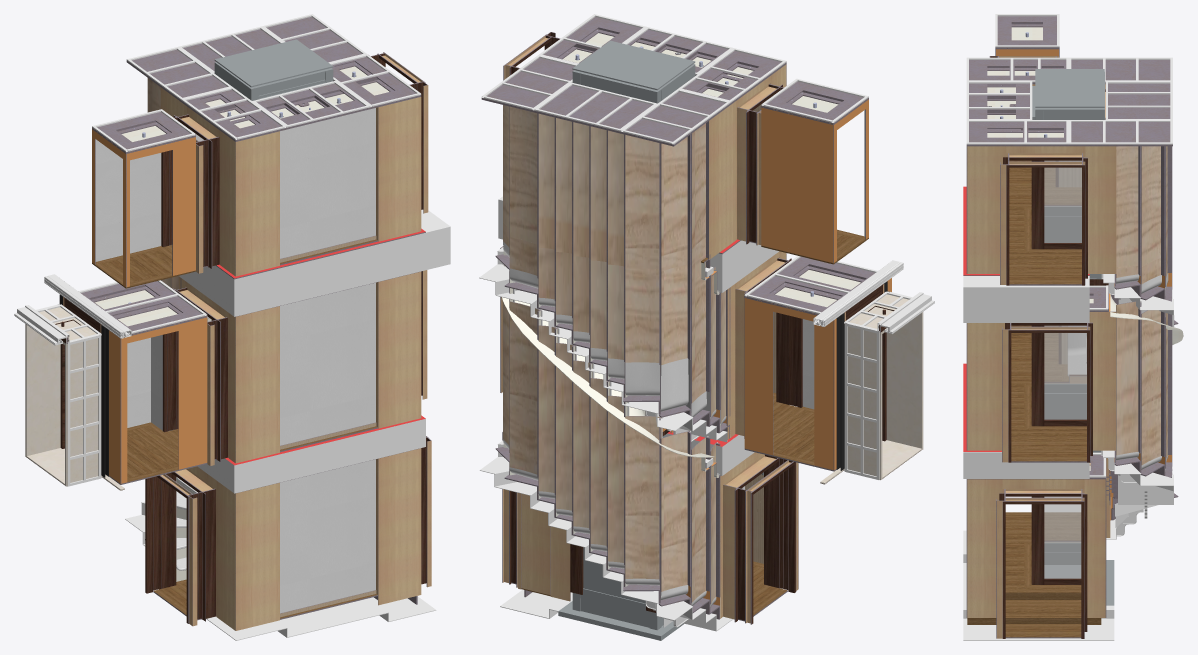
The picture shows the model from 3 angles, left to right: view 1: azimuth 30°, elevation 25°; view 2: azimuth 150°, elevation 25°; view 3: azimuth 270°, elevation 25°; orthographic projection. The views are drawn at different scales.
Visible parts, largest first — view 1: Yüzü Taşı1 2 - Parça, 68-152 MD-UD-BD MERDIVEN_RADIUSLU DP_1_ARKA_2-1 - Parça 2, 68-152 MD-UD-BD MERDIVEN_ARKA_3-1 - Parça 3, 68-152 MD-UD-BD MERDIVEN_RADIUSLU DP_2_ARKA_2-1 - Parça 2, 68-152 MD-UD-BD MERDIVEN_ARKA_1-1 - Parça 3, 68-152 MD-UD-BD MERDIVEN_ARKA_2-1 - Parça 3, 68-152 MD-UD-BD MERDIVEN_ARKA-1 - Parça 3, 68-152 MD-UD-BD MERDIVEN_ALT-1 - Parça, 68-152 MD-UD-BD MERDIVEN_RADIUSLU DP_3_ARKA_2-1 - Parça 2, 68-152 MD-UD-BD MERDIVEN_ARKA_4-1 - Parça 3, 68-152 MD-UD-BD MERDIVEN_ARKA_5-1 - Parça 3, 68-131 T S K KORİDOR K K _ARKA_7-1-solid1 - Parça (+54 smaller); view 2: BSMK_ALT_4_18_DVR_1-1 - Parça 3, 68-152 MD-UD-BD MERDIVEN_ARKA_49-1 - Parça 3, UD_USTPNEL_2_ALT_4_18_DVR_1-1 - Parça 3, BASAMAK_UST_DONUS_DVR_1-1 - Parça 3, 68-131 T S K KORİDOR K K _ARKA_7-2-solid1 - Parça, BSMK_ALT_3_17_DVR_1-1 - Parça 3, 68-152 MD-UD-BD MERDIVEN_SOL_7-1 - Parça 2, Yüzü Taşı310 - Parça 3, Alınmış18 - Parça, UD_USTPNEL_3_ALT_3_17_DVR_1-1 - Parça 3, UD_BSMK_ALT_4_18_DVR_1-1 - Parça 3, 68-131 T S K KORİDOR K K _UST_6_1KD ÖN1-1-solid1 - Parça 2 (+72 smaller); view 3: Alınmış29 - Parça, Alınmış28 - Parça, Yüzü Taşı1 2 - Parça, 68-152 MD-UD-BD MERDIVEN_SAG_1-1 - Parça 2, 68-152 MD-UD-BD MERDIVEN_SAG_2-1 - Parça 2, 68-152 MD-UD-BD MERDIVEN_SAG-1 - Parça 2, 68-152 MD-UD-BD MERDIVEN_SAG_7-1 - Parça 2, BSMK_UST_12_26_DVR_1-1 - Parça 3, 68-152 MD-UD-BD MERDIVEN_SAG_5-1 - Parça 2, BSMK_UST_11_25_DVR_1-1 - Parça 3, 68-171 BD MERDIVEN KOVASI LOBI PARKE_ALT_8-1 - Parça, Yüzü Taşı32 - Parça 3 (+74 smaller).
Part boxes in pixels (box(x1,y1,x2,y2)): Yüzü Taşı1 2 - Parça: box(169, 209, 450, 316); 68-152 MD-UD-BD MERDIVEN_RADIUSLU DP_1_ARKA_2-1 - Parça 2: box(280, 319, 375, 418); 68-152 MD-UD-BD MERDIVEN_ARKA_3-1 - Parça 3: box(235, 306, 279, 463); 68-152 MD-UD-BD MERDIVEN_RADIUSLU DP_2_ARKA_2-1 - Parça 2: box(280, 495, 375, 585); 68-152 MD-UD-BD MERDIVEN_ARKA_1-1 - Parça 3: box(378, 448, 421, 605); 68-152 MD-UD-BD MERDIVEN_ARKA_2-1 - Parça 3: box(378, 271, 421, 428); 68-152 MD-UD-BD MERDIVEN_ARKA-1 - Parça 3: box(235, 483, 279, 630); 68-152 MD-UD-BD MERDIVEN_ALT-1 - Parça: box(168, 419, 425, 493); 68-152 MD-UD-BD MERDIVEN_RADIUSLU DP_3_ARKA_2-1 - Parça 2: box(280, 142, 375, 228); 68-152 MD-UD-BD MERDIVEN_ARKA_4-1 - Parça 3: box(235, 131, 279, 276); 68-152 MD-UD-BD MERDIVEN_ARKA_5-1 - Parça 3: box(378, 97, 421, 241); 68-131 T S K KORİDOR K K _ARKA_7-1-solid1 - Parça: box(26, 325, 60, 455); BSMK_ALT_4_18_DVR_1-1 - Parça 3: box(625, 416, 661, 579); 68-152 MD-UD-BD MERDIVEN_ARKA_49-1 - Parça 3: box(761, 145, 832, 227); UD_USTPNEL_2_ALT_4_18_DVR_1-1 - Parça 3: box(625, 135, 659, 269); BASAMAK_UST_DONUS_DVR_1-1 - Parça 3: box(509, 301, 541, 474); 68-131 T S K KORİDOR K K _ARKA_7-2-solid1 - Parça: box(886, 313, 921, 448); BSMK_ALT_3_17_DVR_1-1 - Parça 3: box(661, 431, 689, 591); 68-152 MD-UD-BD MERDIVEN_SOL_7-1 - Parça 2: box(709, 101, 736, 259); Yüzü Taşı310 - Parça 3: box(509, 106, 537, 244); Alınmış18 - Parça: box(572, 40, 695, 90); UD_USTPNEL_3_ALT_3_17_DVR_1-1 - Parça 3: box(661, 137, 687, 271); UD_BSMK_ALT_4_18_DVR_1-1 - Parça 3: box(625, 268, 659, 362); 68-131 T S K KORİDOR K K _UST_6_1KD ÖN1-1-solid1 - Parça 2: box(847, 356, 876, 476); Alınmış29 - Parça: box(1044, 161, 1086, 578); Alınmış28 - Parça: box(1044, 161, 1086, 542); Yüzü Taşı1 2 - Parça: box(963, 276, 1089, 322); 68-152 MD-UD-BD MERDIVEN_SAG_1-1 - Parça 2: box(967, 323, 1004, 450); 68-152 MD-UD-BD MERDIVEN_SAG_2-1 - Parça 2: box(967, 146, 1006, 273); 68-152 MD-UD-BD MERDIVEN_SAG-1 - Parça 2: box(967, 479, 1002, 617); 68-152 MD-UD-BD MERDIVEN_SAG_7-1 - Parça 2: box(1085, 146, 1116, 273); BSMK_UST_12_26_DVR_1-1 - Parça 3: box(1116, 301, 1138, 455); 68-152 MD-UD-BD MERDIVEN_SAG_5-1 - Parça 2: box(1090, 312, 1115, 450); BSMK_UST_11_25_DVR_1-1 - Parça 3: box(1141, 310, 1160, 464); 68-171 BD MERDIVEN KOVASI LOBI PARKE_ALT_8-1 - Parça: box(1009, 190, 1081, 269); Yüzü Taşı32 - Parça 3: box(1116, 146, 1138, 269).
Size of the model in its own units: 6.51 by 8.82 by 3.49.
56 materials, 45 textured.
